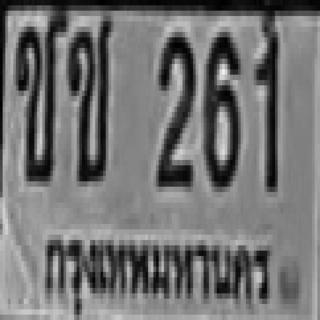A10: (15, 8, 65, 179), (66, 13, 111, 179)
N01: (254, 27, 278, 187)
N02: (156, 27, 193, 181)
N06: (201, 27, 238, 181)
P04: (42, 226, 276, 309)
